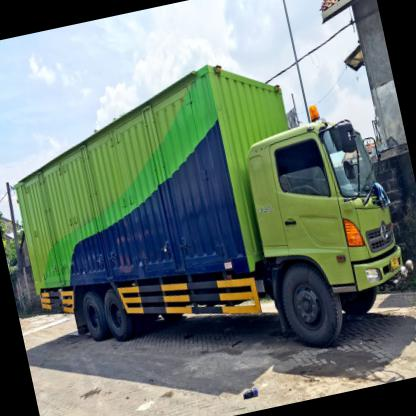truck: (234, 107, 416, 358)
